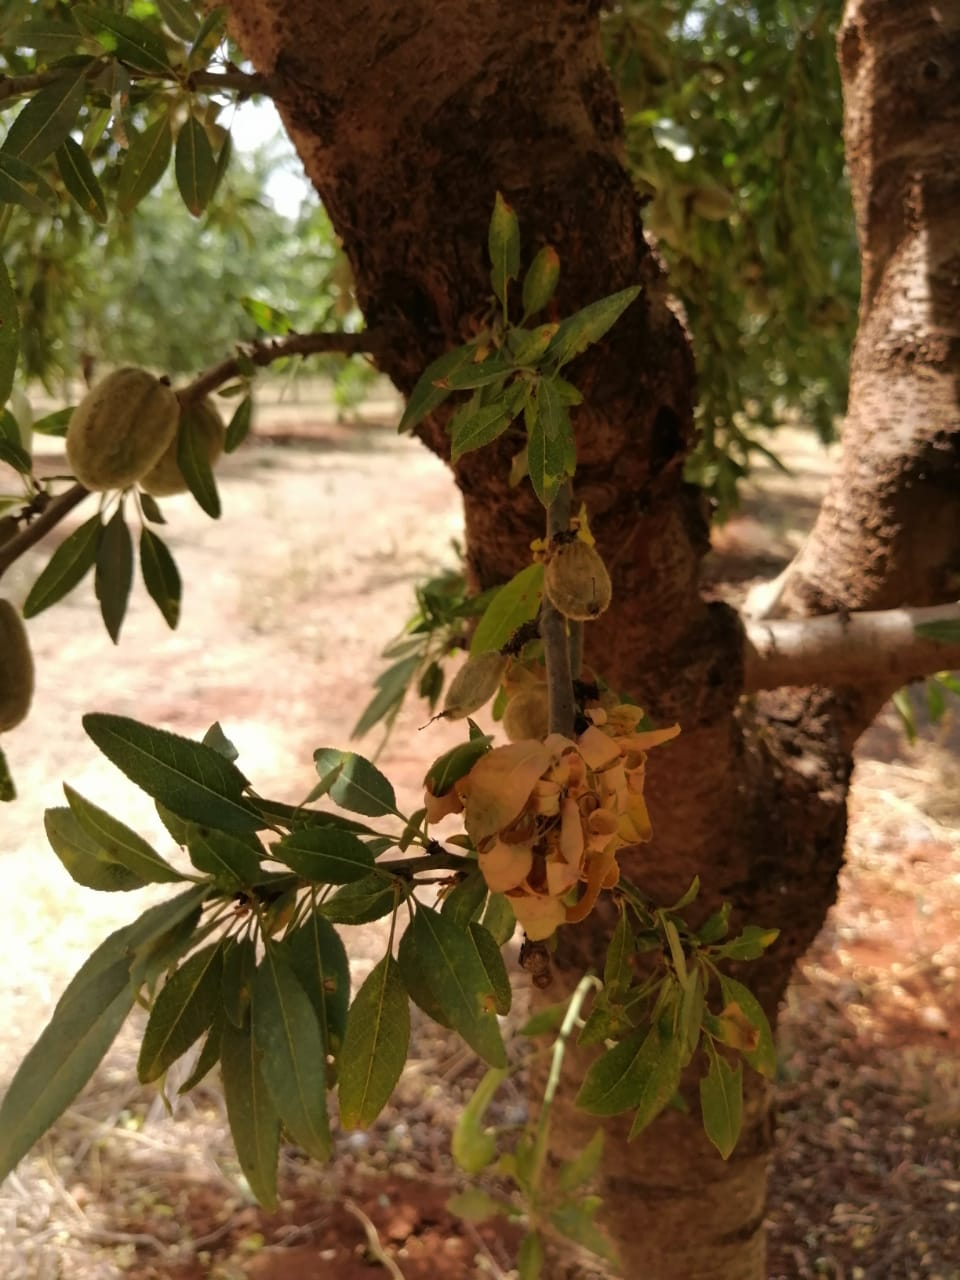chancre fusicocum: (456, 637, 682, 941)
